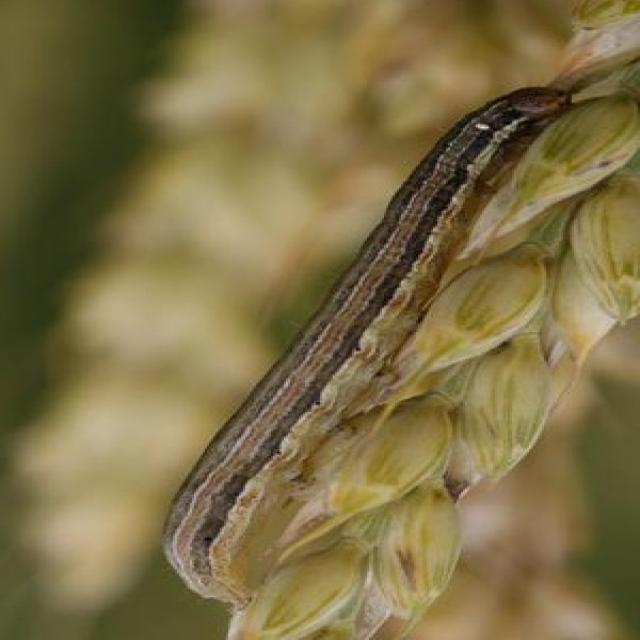army worm: (158, 88, 587, 612)
